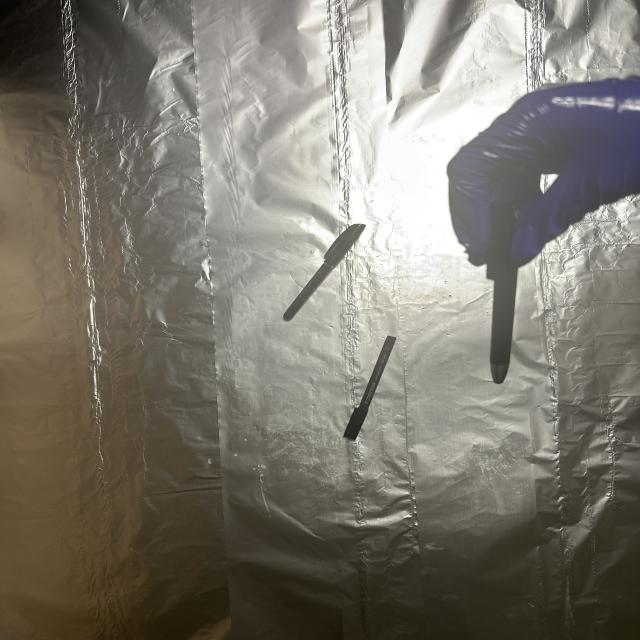gloves_contaminated: (447, 77, 640, 266)
